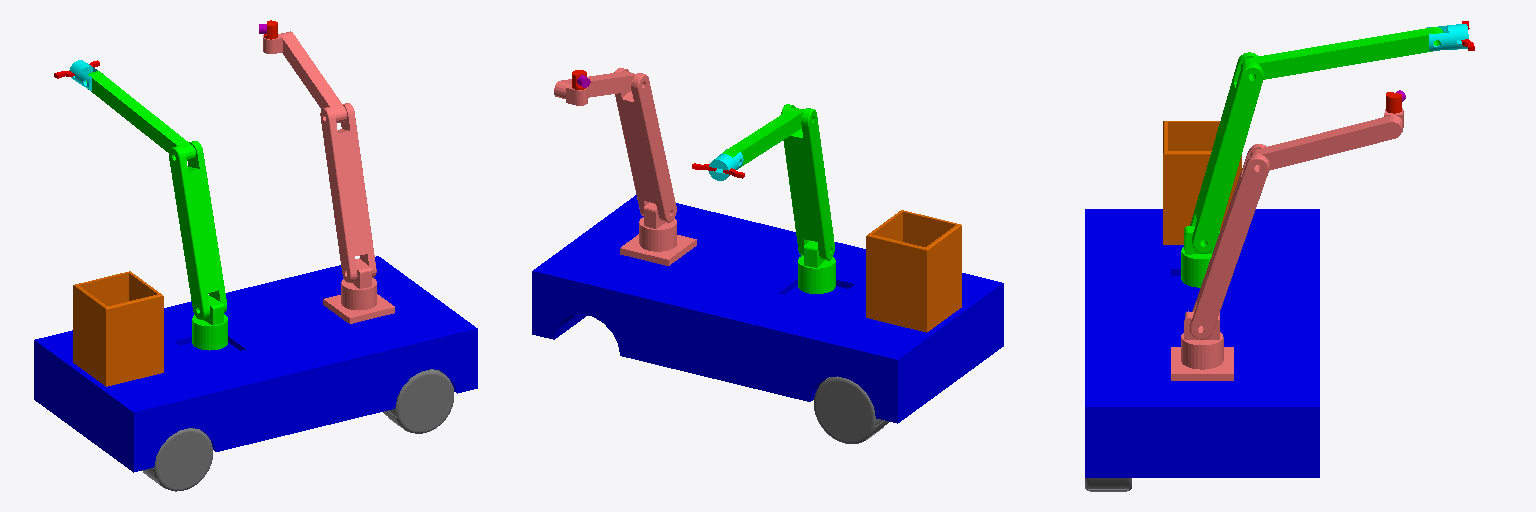
--- Facts derived from the render (not from the file) ---
3 views of the same robot in one strip: view 1: azimuth 30°, elevation 25°; view 2: azimuth 150°, elevation 25°; view 3: azimuth 270°, elevation 25° (orthographic).
Robot: grape_robot — 20 links, 19 joints (8 revolute, 7 continuous, 4 fixed); root link car_base_link; default pose: every joint at zero.
Links seen in each view (by area): view 1: car_base_link, basket_link, arm1_link2, arm2_link2, wheel_link2, wheel_link1, arm1_link3, arm2_link3, arm1_link1, arm2_link1, arm2_base_link; view 2: car_base_link, basket_link, arm2_link2, arm1_link2, wheel_link3, arm1_link3, arm1_link1, arm2_link1, arm2_link3, arm2_base_link, arm1_link4; view 3: car_base_link, arm1_link2, basket_link, arm2_link2, arm1_link3, arm2_link3, arm2_link1, arm2_base_link, arm1_link1, arm1_link4, wheel_link2.
Boxes of the visible links, x1,y1,x2,y2 form: car_base_link: (34,256,477,472); basket_link: (73,271,163,386); arm1_link2: (169,141,226,319); arm2_link2: (320,103,376,282); wheel_link2: (383,369,453,433); wheel_link1: (142,428,212,491); arm1_link3: (86,71,195,160); arm2_link3: (280,31,346,122); arm1_link1: (192,295,227,350); arm2_link1: (341,258,376,310); arm2_base_link: (323,294,394,323); car_base_link: (532,195,1003,423); basket_link: (866,210,961,332); arm2_link2: (614,68,676,222); arm1_link2: (781,104,834,260); wheel_link3: (814,376,888,443); arm1_link3: (723,108,804,167); arm1_link1: (798,241,835,293); arm2_link1: (639,202,676,251); arm2_link3: (554,71,635,98); arm2_base_link: (620,234,696,265); arm1_link4: (709,149,743,180); car_base_link: (1085,209,1319,477); arm1_link2: (1190,52,1263,253); basket_link: (1163,121,1241,244); arm2_link2: (1190,144,1269,339); arm1_link3: (1241,27,1443,79); arm2_link3: (1250,115,1402,170); arm2_link1: (1181,311,1223,369); arm2_base_link: (1171,347,1233,380); arm1_link1: (1181,226,1219,287); arm1_link4: (1427,24,1468,50); wheel_link2: (1085,478,1131,491).
Size in the robot's own frame: 3 by 2.49 by 2.67 metres.
18 mesh visuals loaded from 20 distinct referenced files (18 binary STL); not drawn: 2 (reference not matched to a file when rendering).

robot.urdf — grape_robot:
<?xml version="1.0" encoding="utf-8" ?>
<!-- This URDF was automatically created by SolidWorks to URDF Exporter! Originally created by Stephen Brawner ([email redacted]) 
     Commit Version: 1.5.1-0-g916b5db  Build Version: 1.5.7152.31018
     For more information, please see http://wiki.ros.org/sw_urdf_exporter -->
<robot name="grape_robot">
    <link name="car_base_link">
        
<inertial>
            <origin xyz="0.00580731393949363 0 0.270806051655572" rpy="0 0 0" />
            <mass value="1894.1631388638" />
            <inertia ixx="396.671761506115" ixy="6.68465765301392E-15" ixz="-2.24613343178872" iyy="1331.09215138841" iyz="3.29919736515526E-15" izz="1654.47156695622" />
        </inertial>

        <visual>
            <origin xyz="0 0 0" rpy="0 0 0" />
            <geometry>
                <mesh filename="package://grape_robot_description/meshes/car_base_link.STL" />
            </geometry>
            <material name="">
                <color rgba="0 0 1 1" />
            </material>
        </visual>
        <collision>
            <origin xyz="0 0 0" rpy="0 0 0" />
            <geometry>
                <mesh filename="package://grape_robot_description/meshes/car_base_link.STL" />
            </geometry>
        </collision>
    </link>
    <link name="wheel_link1">
        
<inertial>
            <origin xyz="-7.6124523351595E-13 7.92699239582362E-13 0.149999999887995" rpy="0 0 0" />
            <mass value="61.8726812758105" />
            <inertia ixx="1.47461451392567" ixy="1.86538823425813E-15" ixz="6.16172452801016E-13" iyy="1.47461451392568" iyz="-1.90839669253435E-13" izz="2.03314801318378" />
        </inertial>

        <visual>
            <origin xyz="0 0 0" rpy="0 0 0" />
            <geometry>
                <mesh filename="package://grape_robot_description/meshes/wheel_link1.STL" />
            </geometry>
            <material name="">
                <color rgba="0.501960784313725 0.501960784313725 0.501960784313725 1" />
            </material>
        </visual>
        <collision>
            <origin xyz="0 0 0" rpy="0 0 0" />
            <geometry>
                <mesh filename="package://grape_robot_description/meshes/wheel_link1.STL" />
            </geometry>
        </collision>
    </link>
    <joint name="wheel_joint1" type="continuous">
        <origin xyz="-1.05329616030303 -0.45 -0.00521228742180946" rpy="1.5707963267949 0 0" />
        <parent link="car_base_link" />
        <child link="wheel_link1" />
        <axis xyz="0 0 1" />
    </joint>
    <link name="wheel_link2">
        
<inertial>
            <origin xyz="-1.01429975529754E-12 -4.03899136358632E-13 0.149999999887996" rpy="0 0 0" />
            <mass value="61.8726812758106" />
            <inertia ixx="1.47461451392568" ixy="-5.4783695306559E-15" ixz="4.05478979899536E-13" iyy="1.47461451392568" iyz="4.94236670871198E-13" izz="2.03314801318379" />
        </inertial>

        <visual>
            <origin xyz="0 0 0" rpy="0 0 0" />
            <geometry>
                <mesh filename="package://grape_robot_description/meshes/wheel_link2.STL" />
            </geometry>
            <material name="">
                <color rgba="0.501960784313725 0.501960784313725 0.501960784313725 1" />
            </material>
        </visual>
        <collision>
            <origin xyz="0 0 0" rpy="0 0 0" />
            <geometry>
                <mesh filename="package://grape_robot_description/meshes/wheel_link2.STL" />
            </geometry>
        </collision>
    </link>
    <joint name="wheel_joint2" type="continuous">
        <origin xyz="1.04973884255006 -0.45 -0.0158067771836876" rpy="1.5707963267949 0 0" />
        <parent link="car_base_link" />
        <child link="wheel_link2" />
        <axis xyz="0 0 1" />
    </joint>
    <link name="wheel_link3">
        
<inertial>
            <origin xyz="1.01456343326589E-12 -4.04121180963557E-13 -0.149999999887996" rpy="0 0 0" />
            <mass value="61.8726812758105" />
            <inertia ixx="1.47461451392567" ixy="3.16036295445978E-15" ixz="4.06127407398854E-13" iyy="1.47461451392567" iyz="-4.94095875049958E-13" izz="2.03314801318378" />
        </inertial>

        <visual>
            <origin xyz="0 0 0" rpy="0 0 0" />
            <geometry>
                <mesh filename="package://grape_robot_description/meshes/wheel_link3.STL" />
            </geometry>
            <material name="">
                <color rgba="0.501960784313725 0.501960784313725 0.501960784313725 1" />
            </material>
        </visual>
        <collision>
            <origin xyz="0 0 0" rpy="0 0 0" />
            <geometry>
                <mesh filename="package://grape_robot_description/meshes/wheel_link3.STL" />
            </geometry>
        </collision>
    </link>
    <joint name="wheel_joint3" type="continuous">
        <origin xyz="-1.05571050598439 0.75 -0.00891511020055424" rpy="1.5707963267949 0 3.14159265358979" />
        <parent link="car_base_link" />
        <child link="wheel_link3" />
        <axis xyz="0 0 1" />
    </joint>
    <link name="wheel_link4">
        
<inertial>
            <origin xyz="1.01474384450739E-12 -4.04343225568482E-13 -0.149999999887996" rpy="0 0 0" />
            <mass value="61.8726812758105" />
            <inertia ixx="1.47461451392568" ixy="6.65030144493302E-15" ixz="4.06278849969646E-13" iyy="1.47461451392568" iyz="-4.93806348865881E-13" izz="2.03314801318378" />
        </inertial>

        <visual>
            <origin xyz="0 0 0" rpy="0 0 0" />
            <geometry>
                <mesh filename="package://grape_robot_description/meshes/wheel_link4.STL" />
            </geometry>
            <material name="">
                <color rgba="0.501960784313725 0.501960784313725 0.501960784313725 1" />
            </material>
        </visual>
        <collision>
            <origin xyz="0 0 0" rpy="0 0 0" />
            <geometry>
                <mesh filename="package://grape_robot_description/meshes/wheel_link4.STL" />
            </geometry>
        </collision>
    </link>
    <joint name="wheel_joint4" type="continuous">
        <origin xyz="1.05 0.75 -0.01" rpy="1.5707963267949 0 3.14159265358979" />
        <parent link="car_base_link" />
        <child link="wheel_link4" />
        <axis xyz="0 0 -1" />
    </joint>
    <link name="basket_link">
        
<inertial>
            <origin xyz="5.55111512312578E-17 0 0.305781840792512" rpy="0 0 0" />
            <mass value="45.3934969327129" />
            <inertia ixx="3.74116884013512" ixy="1.33635163861004E-16" ixz="-2.48732887569486E-15" iyy="3.74116884013513" iyz="2.91329140288193E-15" izz="3.11198640550683" />
        </inertial>

        <visual>
            <origin xyz="0 0 0" rpy="0 0 0" />
            <geometry>
                <mesh filename="package://grape_robot_description/meshes/basket_link.STL" />
            </geometry>
            <material name="">
                <color rgba="0.909803921568627 0.443137254901961 0.0313725490196078 1" />
            </material>
        </visual>
        <collision>
            <origin xyz="0 0 0" rpy="0 0 0" />
            <geometry>
                <mesh filename="package://grape_robot_description/meshes/basket_link.STL" />
            </geometry>
        </collision>
    </link>
    <joint name="basket_joint" type="fixed">
        <origin xyz="-1.2 0 0.45" rpy="0 0 0" />
        <parent link="car_base_link" />
        <child link="basket_link" />
        <axis xyz="0 0 0" />
    </joint>
    <link name="arm1_base_link">
        
<inertial>
            <origin xyz="-4.44089209850063E-16 1.11022302462516E-16 0.0457907228954795" rpy="0 0 0" />
            <mass value="14.2823342166498" />
            <inertia ixx="0.216354531828994" ixy="9.80697005085562E-18" ixz="-1.11648389865987E-18" iyy="0.216354531828995" iyz="-9.54727584171079E-18" izz="0.411014437215888" />
        </inertial>

        <visual>
            <origin xyz="0 0 0" rpy="0 0 0" />
            <geometry>
                <mesh filename="package://grape_robot_description/meshes/arm1_base_link.STL" />
            </geometry>
            <material name="">
                <color rgba="0 1 0 1" />
            </material>
        </visual>
        <collision>
            <origin xyz="0 0 0" rpy="0 0 0" />
            <geometry>
                <mesh filename="package://grape_robot_description/meshes/arm1_base_link.STL" />
            </geometry>
        </collision>
    </link>
    <joint name="arm1_base_joint" type="fixed">
        <origin xyz="-0.4 0 0.45" rpy="0 0 1.5707963267949" />
        <parent link="car_base_link" />
        <child link="arm1_base_link" />
        <axis xyz="0 0 0" />
    </joint>
    <link name="arm1_link1">
        
<inertial>
            <origin xyz="0 -1.11022302462516E-16 0.138894448505083" rpy="0 0 0" />
            <mass value="14.7706616501684" />
            <inertia ixx="0.176977241495752" ixy="-0.001184916820133" ixz="-2.04248028553814E-17" iyy="0.188391317113086" iyz="-3.01943399696904E-18" izz="0.122105378162113" />
        </inertial>

        <visual>
            <origin xyz="0 0 0" rpy="0 0 0" />
            <geometry>
                <mesh filename="package://grape_robot_description/meshes/arm1_link1.STL" />
            </geometry>
            <material name="">
                <color rgba="0 1 0 1" />
            </material>
        </visual>
        <collision>
            <origin xyz="0 0 0" rpy="0 0 0" />
            <geometry>
                <mesh filename="package://grape_robot_description/meshes/arm1_link1.STL" />
            </geometry>
        </collision>
    </link>
    <joint name="arm1_joint1" type="continuous">
        <origin xyz="0 0 0.0700000000000001" rpy="0 0 0" />
        <parent link="arm1_base_link" />
        <child link="arm1_link1" />
        <axis xyz="0 0 1" />
    </joint>
    <link name="arm1_link2">
        
<inertial>
            <origin xyz="0.6 -8.88178419700125E-16 0.0525000000000001" rpy="0 0 0" />
            <mass value="38.0892038860767" />
            <inertia ixx="0.248336311424493" ixy="-2.08166817117217E-16" ixz="-5.41233724504764E-16" iyy="4.55187605424207" iyz="-5.55111512312578E-17" izz="4.44527028775544" />
        </inertial>

        <visual>
            <origin xyz="0 0 0" rpy="0 0 0" />
            <geometry>
                <mesh filename="package://grape_robot_description/meshes/arm1_link2.STL" />
            </geometry>
            <material name="">
                <color rgba="0 1 0 1" />
            </material>
        </visual>
        <collision>
            <origin xyz="0 0 0" rpy="0 0 0" />
            <geometry>
                <mesh filename="package://grape_robot_description/meshes/arm1_link2.STL" />
            </geometry>
        </collision>
    </link>
    <joint name="arm1_joint2" type="revolute">
        <origin xyz="-0.00536439703200209 0.0522252165575512 0.300000000000003" rpy="1.5707963267949 -1.30911679597271 0.102357632412451" />
        <parent link="arm1_link1" />
        <child link="arm1_link2" />
        <axis xyz="0 0 -1" />
        <limit lower="-1.57" upper="1.57" effort="5000.0" velocity="10.0" />
    </joint>
    <link name="arm1_link3">
        
<inertial>
            <origin xyz="0.6 -4.44089209850063E-16 5.55111512312578E-17" rpy="0 0 0" />
            <mass value="15.8951879872733" />
            <inertia ixx="0.0337520465909674" ixy="-4.68375338513738E-17" ixz="6.50521303491303E-17" iyy="2.14536372200935" iyz="1.38777878078145E-17" izz="2.1499083606737" />
        </inertial>

        <visual>
            <origin xyz="0 0 0" rpy="0 0 0" />
            <geometry>
                <mesh filename="package://grape_robot_description/meshes/arm1_link3.STL" />
            </geometry>
            <material name="">
                <color rgba="0 1 0 1" />
            </material>
        </visual>
        <collision>
            <origin xyz="0 0 0" rpy="0 0 0" />
            <geometry>
                <mesh filename="package://grape_robot_description/meshes/arm1_link3.STL" />
            </geometry>
        </collision>
    </link>
    <joint name="arm1_joint3" type="revolute">
        <origin xyz="1.2 0 0.0525000000000002" rpy="0 0 -1.17332411449794" />
        <parent link="arm1_link2" />
        <child link="arm1_link3" />
        <axis xyz="0 0 -1" />
        <limit lower="-1.57" upper="1.57" effort="5000.0" velocity="10.0" />
    </joint>
    <link name="arm1_link4">
        
<inertial>
            <origin xyz="0.115301970433014 2.36020714083907E-08 0.0525003002259287" rpy="0 0 0" />
            <mass value="2.62487859261603" />
            <inertia ixx="0.00962569479405697" ixy="3.38052672535722E-09" ixz="7.27809743520779E-08" iyy="0.0145548779695701" iyz="1.96549208045398E-08" izz="0.0137689402193358" />
        </inertial>

        <visual>
            <origin xyz="0 0 0" rpy="0 0 0" />
            <geometry>
                <mesh filename="package://grape_robot_description/meshes/arm1_link4.STL" />
            </geometry>
            <material name="">
                <color rgba="0 1 1 1" />
            </material>
        </visual>
        <collision>
            <origin xyz="0 0 0" rpy="0 0 0" />
            <geometry>
                <mesh filename="package://grape_robot_description/meshes/arm1_link4.STL" />
            </geometry>
        </collision>
    </link>
    <joint name="arm1_joint4" type="revolute">
        <origin xyz="1.2 0 -0.0524999999999995" rpy="0 0 -0.0905233022204321" />
        <parent link="arm1_link3" />
        <child link="arm1_link4" />
        <axis xyz="0 0 -1" />
        <limit lower="-1.57" upper="1.57" effort="1000.0" velocity="10.0" />
    </joint>
    <link name="grip_rightlink">
        
<inertial>
            <origin xyz="0.066619562014389 0.0148545913482052 0.0150000000000001" rpy="0 0 0" />
            <mass value="0.198139867656488" />
            <inertia ixx="7.83981468618566E-05" ixy="-0.000114503714158254" ixz="-3.01967245696158E-19" iyy="0.000455719454816794" iyz="-2.18534500391609E-19" izz="0.000504396621530177" />
        </inertial>

        <visual>
            <origin xyz="0 0 0" rpy="0 0 0" />
            <geometry>
                <mesh filename="package://grape_robot_description/meshes/grip_rightlink.STL" />
            </geometry>
            <material name="">
                <color rgba="1 0 0 1" />
            </material>
        </visual>
        <collision>
            <origin xyz="0 0 0" rpy="0 0 0" />
            <geometry>
                <mesh filename="package://grape_robot_description/meshes/grip_rightlink.STL" />
            </geometry>
        </collision>
    </link>
    <joint name="grip_rightjoint" type="revolute">
        <origin xyz="0.18 -0.015 0.1025" rpy="-1.5708 -1.5708 0" />
        <parent link="arm1_link4" />
        <child link="grip_rightlink" />
        <axis xyz="0 0 1" />
        <limit lower="0" upper="1.57" effort="10.0" velocity="10.0" />
    </joint>
    <link name="grip_leftlink">
        
<inertial>
            <origin xyz="-0.0148545913482054 0 -0.066619562014389" rpy="0 0 0" />
            <mass value="0.198139867656488" />
            <inertia ixx="0.000455719454816793" ixy="-1.18584612615602E-19" ixz="-0.000114503714158255" iyy="0.000504396621530175" iyz="-3.63800650845722E-19" izz="7.83981468618551E-05" />
        </inertial>

        <visual>
            <origin xyz="0 0 0" rpy="0 0 0" />
            <geometry>
                <mesh filename="package://grape_robot_description/meshes/grip_leftlink.STL" />
            </geometry>
            <material name="">
                <color rgba="1 0 0 1" />
            </material>
        </visual>
        <collision>
            <origin xyz="0 0 0" rpy="0 0 0" />
            <geometry>
                <mesh filename="package://grape_robot_description/meshes/grip_leftlink.STL" />
            </geometry>
        </collision>
    </link>
    <joint name="grip_leftjoint" type="revolute">
        <origin xyz="0.18 0 0.0025" rpy="0 0 3.1416" />
        <parent link="arm1_link4" />
        <child link="grip_leftlink" />
        <axis xyz="0 1 0" />
        <limit lower="0" upper="1.57" effort="10.0" velocity="10.0" />
    </joint>
    <link name="arm2_base_link">
        
<inertial>
            <origin xyz="0 2.22044604925031E-16 0.0457907228954795" rpy="0 0 0" />
            <mass value="14.2823342166498" />
            <inertia ixx="0.216354531828994" ixy="-2.2204460492503E-17" ixz="2.87322569476366E-18" iyy="0.216354531828995" iyz="-1.41788600953455E-17" izz="0.411014437215888" />
        </inertial>

        <visual>
            <origin xyz="0 0 0" rpy="0 0 0" />
            <geometry>
                <mesh filename="package://grape_robot_description/meshes/arm2_base_link.STL" />
            </geometry>
            <material name="">
                <color rgba="1 0.501960784313725 0.501960784313725 1" />
            </material>
        </visual>
        <collision>
            <origin xyz="0 0 0" rpy="0 0 0" />
            <geometry>
                <mesh filename="package://grape_robot_description/meshes/arm2_base_link.STL" />
            </geometry>
        </collision>
    </link>
    <joint name="arm2_base_joint" type="fixed">
        <origin xyz="0.9 0 0.45" rpy="0 0 1.5707963267949" />
        <parent link="car_base_link" />
        <child link="arm2_base_link" />
        <axis xyz="0 0 0" />
    </joint>
    <link name="arm2_link1">
        
<inertial>
            <origin xyz="0 -4.44089209850063E-16 0.138894448505083" rpy="0 0 0" />
            <mass value="14.7706616501684" />
            <inertia ixx="0.176855530860698" ixy="-6.93889390390723E-18" ixz="-1.87191373883066E-17" iyy="0.18851302774814" iyz="3.09652755147744E-18" izz="0.122105378162113" />
        </inertial>

        <visual>
            <origin xyz="0 0 0" rpy="0 0 0" />
            <geometry>
                <mesh filename="package://grape_robot_description/meshes/arm2_link1.STL" />
            </geometry>
            <material name="">
                <color rgba="1 0.501960784313725 0.501960784313725 1" />
            </material>
        </visual>
        <collision>
            <origin xyz="0 0 0" rpy="0 0 0" />
            <geometry>
                <mesh filename="package://grape_robot_description/meshes/arm2_link1.STL" />
            </geometry>
        </collision>
    </link>
    <joint name="arm2_joint1" type="continuous">
        <origin xyz="0 0 0.0700000000000001" rpy="0 0 -0.0533709369463015" />
        <parent link="arm2_base_link" />
        <child link="arm2_link1" />
        <axis xyz="0 0 1" />
    </joint>
    <link name="arm2_link2">
        
<inertial>
            <origin xyz="0.6 0 0.0525000000000004" rpy="0 0 0" />
            <mass value="38.0892038860767" />
            <inertia ixx="0.248336311424493" ixy="-2.22044604925031E-16" ixz="-7.56339435525888E-16" iyy="4.55187605424207" iyz="0" izz="4.44527028775544" />
        </inertial>

        <visual>
            <origin xyz="0 0 0" rpy="0 0 0" />
            <geometry>
                <mesh filename="package://grape_robot_description/meshes/arm2_link2.STL" />
            </geometry>
            <material name="">
                <color rgba="1 0.501960784313725 0.501960784313725 1" />
            </material>
        </visual>
        <collision>
            <origin xyz="0 0 0" rpy="0 0 0" />
            <geometry>
                <mesh filename="package://grape_robot_description/meshes/arm2_link2.STL" />
            </geometry>
        </collision>
    </link>
    <joint name="arm2_joint2" type="revolute">
        <origin xyz="0 0.0525000000000022 0.300000000000006" rpy="1.5707963267949 -1.26654740585129 0" />
        <parent link="arm2_link1" />
        <child link="arm2_link2" />
        <axis xyz="0 0 -1" />
        <limit lower="-1.57" upper="1.57" effort="1000.0" velocity="10.0" />
    </joint>
    <link name="arm2_link3">
        
<inertial>
            <origin xyz="0.453975766570342 -1.33226762955019E-15 0.000220875920573071" rpy="0 0 0" />
            <mass value="12.2231802347404" />
            <inertia ixx="0.0258541672578399" ixy="-1.05384451165591E-16" ixz="-0.00120417898482214" iyy="0.983562956407477" iyz="1.73472347597681E-17" izz="0.98696722198229" />
        </inertial>

        <visual>
            <origin xyz="0 0 0" rpy="0 0 0" />
            <geometry>
                <mesh filename="package://grape_robot_description/meshes/arm2_link3.STL" />
            </geometry>
            <material name="">
                <color rgba="1 0.501960784313725 0.501960784313725 1" />
            </material>
        </visual>
        <collision>
            <origin xyz="0 0 0" rpy="0 0 0" />
            <geometry>
                <mesh filename="package://grape_robot_description/meshes/arm2_link3.STL" />
            </geometry>
        </collision>
    </link>
    <joint name="arm2_joint3" type="revolute">
        <origin xyz="1.20000000000001 0 0.0525000000000013" rpy="0 0 -0.970349670727532" />
        <parent link="arm2_link2" />
        <child link="arm2_link3" />
        <axis xyz="0 0 -1" />
        <limit lower="-1.57" upper="1.57" effort="1000.0" velocity="10.0" />
    </joint>
    <link name="arm2_link4">
        
<inertial>
            <origin xyz="0 -0.00302605180463056 -0.0383650785949965" rpy="0 0 0" />
            <mass value="1.57381909523615" />
            <inertia ixx="0.00391501227913989" ixy="5.70264931738958E-19" ixz="2.11419423634673E-18" iyy="0.00392883927742793" iyz="-5.54108258428833E-05" izz="0.00364961256262644" />
        </inertial>

        <visual>
            <origin xyz="0 0 0" rpy="0 0 0" />
            <geometry>
                <mesh filename="package://grape_robot_description/meshes/arm2_link4.STL" />
            </geometry>
            <material name="">
                <color rgba="1 0.501960784313725 0.501960784313725 1" />
            </material>
        </visual>
        <collision>
            <origin xyz="0 0 0" rpy="0 0 0" />
            <geometry>
                <mesh filename="package://grape_robot_description/meshes/arm2_link4.STL" />
            </geometry>
        </collision>
    </link>
    <joint name="arm2_joint4" type="revolute">
        <origin xyz="0.900000000000002 0 -0.0774999999999988" rpy="0 0 -0.296485833526196" />
        <parent link="arm2_link3" />
        <child link="arm2_link4" />
        <axis xyz="0 0 -1" />
        <limit lower="-1.57" upper="1.57" effort="50.0" velocity="10.0" />
    </joint>
    <link name="arm2_link5">
        
<inertial>
            <origin xyz="-0.00758695627207695 2.22044604925031E-16 0.056641504407962" rpy="0 0 0" />
            <mass value="0.848992580818123" />
            <inertia ixx="0.0017174124569853" ixy="-2.71050543121376E-19" ixz="0.00011825201930143" iyy="0.00151439261603278" iyz="2.64062521306528E-19" izz="0.0010707437144987" />
        </inertial>

        <visual>
            <origin xyz="0 0 0" rpy="0 0 0" />
            <geometry>
                <mesh filename="package://grape_robot_description/meshes/arm2_link5.STL" />
            </geometry>
            <material name="">
                <color rgba="0.96078431372549 0.117647058823529 0 1" />
            </material>
        </visual>
        <collision>
            <origin xyz="0 0 0" rpy="0 0 0" />
            <geometry>
                <mesh filename="package://grape_robot_description/meshes/arm2_link5.STL" />
            </geometry>
        </collision>
    </link>
    <joint name="arm2_joint5" type="continuous">
        <origin xyz="0 0.0500000000000003 -0.0499999999999998" rpy="-1.5707963267949 1.11731100296617 0" />
        <parent link="arm2_link4" />
        <child link="arm2_link5" />
        <axis xyz="0 0 1" />
    </joint>
    <link name="arm2_end_effector">
        
<inertial>
            <origin xyz="0.0347525005713427 -1.11022302462516E-16 -0.000144066831606171" rpy="0 0 0" />
            <mass value="0.306982526837746" />
            <inertia ixx="0.000216244705183095" ixy="-2.03287907341032E-20" ixz="1.49251690973181E-06" iyy="0.000231480290788856" iyz="-7.83505476210228E-21" izz="0.000232187474288551" />
        </inertial>

        <visual>
            <origin xyz="0 0 0" rpy="0 0 0" />
            <geometry>
                <mesh filename="package://grape_robot_description/meshes/arm2_end_effector.STL" />
            </geometry>
            <material name="">
                <color rgba="0.752941176470588 0 0.752941176470588 1" />
            </material>
        </visual>
        <collision>
            <origin xyz="0 0 0" rpy="0 0 0" />
            <geometry>
                <mesh filename="package://grape_robot_description/meshes/arm2_end_effector.STL" />
            </geometry>
        </collision>
    </link>
    <joint name="arm2_endjoint" type="fixed">
        <origin xyz="0.0170416345659805 0 0.0750000000000006" rpy="-0.0253991759640897 0 0" />
        <parent link="arm2_link5" />
        <child link="arm2_end_effector" />
        <axis xyz="0 0 0" />
    </joint>
    
<transmission name="trans_wheel_joint1">
        <type>transmission_interface/SimpleTransmission</type>
        <joint name="wheel_joint1">
            <hardwareInterface>hardware_interface/EffortJointInterface</hardwareInterface>
        </joint>
        <actuator name="wheel_joint1_motor">
            <hardwareInterface>hardware_interface/EffortJointInterface</hardwareInterface>
            <mechanicalReduction>1</mechanicalReduction>
        </actuator>
    </transmission>
    <transmission name="trans_wheel_joint2">
        <type>transmission_interface/SimpleTransmission</type>
        <joint name="wheel_joint2">
            <hardwareInterface>hardware_interface/EffortJointInterface</hardwareInterface>
        </joint>
        <actuator name="wheel_joint2_motor">
            <hardwareInterface>hardware_interface/EffortJointInterface</hardwareInterface>
            <mechanicalReduction>1</mechanicalReduction>
        </actuator>
    </transmission>
    <transmission name="trans_wheel_joint3">
        <type>transmission_interface/SimpleTransmission</type>
        <joint name="wheel_joint3">
            <hardwareInterface>hardware_interface/EffortJointInterface</hardwareInterface>
        </joint>
        <actuator name="wheel_joint3_motor">
            <hardwareInterface>hardware_interface/EffortJointInterface</hardwareInterface>
            <mechanicalReduction>1</mechanicalReduction>
        </actuator>
    </transmission>
    <transmission name="trans_wheel_joint4">
        <type>transmission_interface/SimpleTransmission</type>
        <joint name="wheel_joint4">
            <hardwareInterface>hardware_interface/EffortJointInterface</hardwareInterface>
        </joint>
        <actuator name="wheel_joint4_motor">
            <hardwareInterface>hardware_interface/EffortJointInterface</hardwareInterface>
            <mechanicalReduction>1</mechanicalReduction>
        </actuator>
    </transmission>
    <transmission name="trans_arm1_joint1">
        <type>transmission_interface/SimpleTransmission</type>
        <joint name="arm1_joint1">
            <hardwareInterface>hardware_interface/PositionJointInterface</hardwareInterface>
        </joint>
        <actuator name="arm1_joint1_motor">
            <hardwareInterface>hardware_interface/PositionJointInterface</hardwareInterface>
            <mechanicalReduction>1</mechanicalReduction>
        </actuator>
    </transmission>
    <transmission name="trans_arm1_joint2">
        <type>transmission_interface/SimpleTransmission</type>
        <joint name="arm1_joint2">
            <hardwareInterface>hardware_interface/PositionJointInterface</hardwareInterface>
        </joint>
        <actuator name="arm1_joint2_motor">
            <hardwareInterface>hardware_interface/PositionJointInterface</hardwareInterface>
            <mechanicalReduction>1</mechanicalReduction>
        </actuator>
    </transmission>
    <transmission name="trans_arm1_joint3">
        <type>transmission_interface/SimpleTransmission</type>
        <joint name="arm1_joint3">
            <hardwareInterface>hardware_interface/PositionJointInterface</hardwareInterface>
        </joint>
        <actuator name="arm1_joint3_motor">
            <hardwareInterface>hardware_interface/PositionJointInterface</hardwareInterface>
            <mechanicalReduction>1</mechanicalReduction>
        </actuator>
    </transmission>
    <transmission name="trans_arm1_joint4">
        <type>transmission_interface/SimpleTransmission</type>
        <joint name="arm1_joint4">
            <hardwareInterface>hardware_interface/PositionJointInterface</hardwareInterface>
        </joint>
        <actuator name="arm1_joint4_motor">
            <hardwareInterface>hardware_interface/PositionJointInterface</hardwareInterface>
            <mechanicalReduction>1</mechanicalReduction>
        </actuator>
    </transmission>
    <transmission name="trans_grip_rightjoint">
        <type>transmission_interface/SimpleTransmission</type>
        <joint name="grip_rightjoint">
            <hardwareInterface>hardware_interface/PositionJointInterface</hardwareInterface>
        </joint>
        <actuator name="grip_rightjoint_motor">
            <hardwareInterface>hardware_interface/PositionJointInterface</hardwareInterface>
            <mechanicalReduction>1</mechanicalReduction>
        </actuator>
    </transmission>
    <transmission name="trans_grip_leftjoint">
        <type>transmission_interface/SimpleTransmission</type>
        <joint name="grip_leftjoint">
            <hardwareInterface>hardware_interface/PositionJointInterface</hardwareInterface>
        </joint>
        <actuator name="grip_leftjoint_motor">
            <hardwareInterface>hardware_interface/PositionJointInterface</hardwareInterface>
            <mechanicalReduction>1</mechanicalReduction>
        </actuator>
    </transmission>
    <transmission name="trans_arm2_joint1">
        <type>transmission_interface/SimpleTransmission</type>
        <joint name="arm2_joint1">
            <hardwareInterface>hardware_interface/PositionJointInterface</hardwareInterface>
        </joint>
        <actuator name="arm2_joint1_motor">
            <hardwareInterface>hardware_interface/PositionJointInterface</hardwareInterface>
            <mechanicalReduction>1</mechanicalReduction>
        </actuator>
    </transmission>
    <transmission name="trans_arm2_joint2">
        <type>transmission_interface/SimpleTransmission</type>
        <joint name="arm2_joint2">
            <hardwareInterface>hardware_interface/PositionJointInterface</hardwareInterface>
        </joint>
        <actuator name="arm2_joint2_motor">
            <hardwareInterface>hardware_interface/PositionJointInterface</hardwareInterface>
            <mechanicalReduction>1</mechanicalReduction>
        </actuator>
    </transmission>
    <transmission name="trans_arm2_joint3">
        <type>transmission_interface/SimpleTransmission</type>
        <joint name="arm2_joint3">
            <hardwareInterface>hardware_interface/PositionJointInterface</hardwareInterface>
        </joint>
        <actuator name="arm2_joint3_motor">
            <hardwareInterface>hardware_interface/PositionJointInterface</hardwareInterface>
            <mechanicalReduction>1</mechanicalReduction>
        </actuator>
    </transmission>
    <transmission name="trans_arm2_joint4">
        <type>transmission_interface/SimpleTransmission</type>
        <joint name="arm2_joint4">
            <hardwareInterface>hardware_interface/PositionJointInterface</hardwareInterface>
        </joint>
        <actuator name="arm2_joint4_motor">
            <hardwareInterface>hardware_interface/PositionJointInterface</hardwareInterface>
            <mechanicalReduction>1</mechanicalReduction>
        </actuator>
    </transmission>
    <transmission name="trans_arm2_joint5">
        <type>transmission_interface/SimpleTransmission</type>
        <joint name="arm2_joint5">
            <hardwareInterface>hardware_interface/PositionJointInterface</hardwareInterface>
        </joint>
        <actuator name="arm2_joint5_motor">
            <hardwareInterface>hardware_interface/PositionJointInterface</hardwareInterface>
            <mechanicalReduction>1</mechanicalReduction>
        </actuator>
    </transmission>
    <gazebo>
        <plugin name="gazebo_ros_control" filename="libgazebo_ros_control.so">
            <robotNamespace>/</robotNamespace>
		<legacyModeNS>true</legacyModeNS>
        </plugin>
    </gazebo>
</robot>
